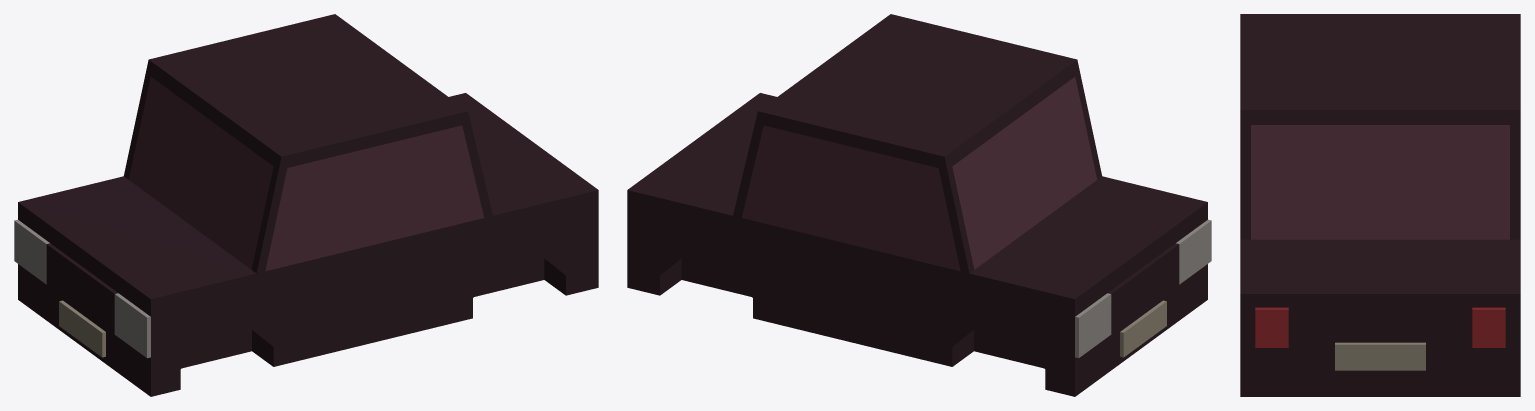
Rendered from Sedan_Black.fbx.
3 views of the same model, side by side, from view 1: azimuth 30°, elevation 25°; view 2: azimuth 150°, elevation 25°; view 3: azimuth 270°, elevation 25° (orthographic). The views are drawn at different scales.
Parts seen in each view (by area): view 1: Sedan_Black, Sedan_Lights; view 2: Sedan_Black, Sedan_Lights; view 3: Sedan_Black, Sedan_Lights.
Boxes of the visible parts, left/top/right/bottom form: Sedan_Black: left=18, top=14, right=598, bottom=396; Sedan_Lights: left=14, top=219, right=150, bottom=358; Sedan_Black: left=627, top=14, right=1207, bottom=396; Sedan_Lights: left=1075, top=219, right=1211, bottom=358; Sedan_Black: left=1240, top=14, right=1520, bottom=396; Sedan_Lights: left=1255, top=307, right=1505, bottom=347.
Size of the model in its own units: 3.66 by 1.6 by 1.85.
